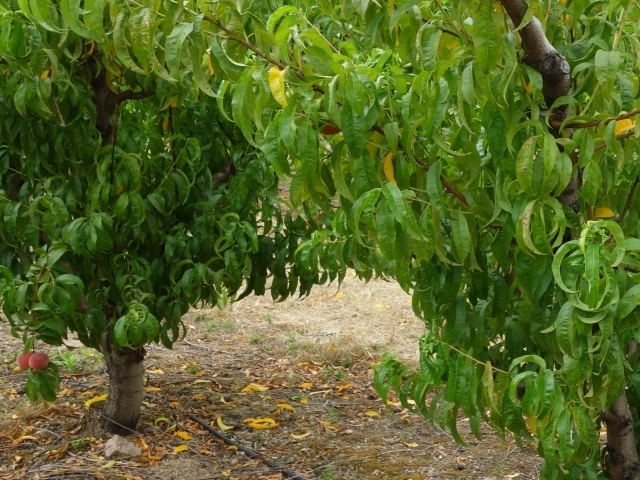peach: (25, 350, 50, 374), (14, 347, 35, 374)
